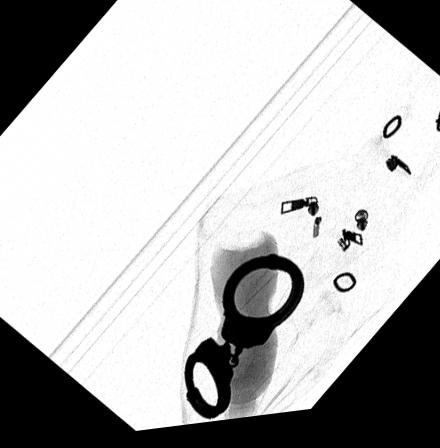HandCuffs: (184, 258, 304, 424)
